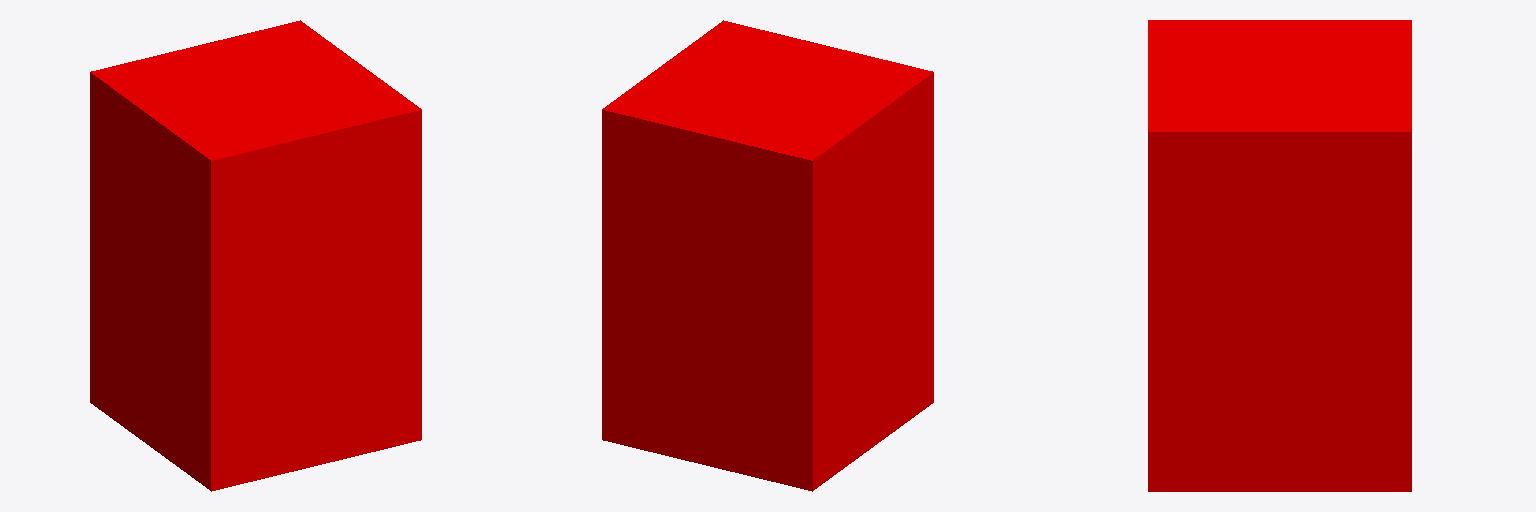
The robot description file, URDF, robot "red_cylinder":
<?xml version="1.0"?>
<robot name="red_cylinder">

<link name="base_link">
  <collision>
    <origin xyz="0.095 0.1 0.0" rpy="0 0 0"/>
    <geometry>
       <box size="0.02 0.02 0.03"/>
    </geometry>
  </collision>

  <visual>
    <origin xyz="0.095 0.1 0.0" rpy="0 0 0"/>
    <geometry>
       <box size="0.02 0.02 0.03"/>
    </geometry>
    <material name="">
        <color rgba="1 0 0 1" />
      </material>
  </visual>

  <inertial>
    <origin xyz="0.095 0.1 0.0" rpy="0 0 0"/>
    <mass value="0.0004"/>
    <inertia
      ixx="0.01" ixy="0.0" ixz="0.0"
      iyy="0.01" iyz="0.0"
      izz="0.01"/>
  </inertial>
</link>

<gazebo reference="base_link">
  <material>Gazebo/Red</material>
</gazebo>



</robot>

--- Render facts (derived) ---
The picture shows the robot from 3 angles, left to right: view 1: azimuth 30°, elevation 25°; view 2: azimuth 150°, elevation 25°; view 3: azimuth 270°, elevation 25°; orthographic projection.
Model red_cylinder with 1 links and 0 joints (none), rooted at base_link, posed every joint at zero.
Visible links, largest first — view 1: base_link; view 2: base_link; view 3: base_link.
Boxes of the visible links, left/top/right/bottom form: base_link: left=90, top=20, right=421, bottom=491; base_link: left=602, top=20, right=933, bottom=491; base_link: left=1148, top=20, right=1411, bottom=491.
Bounding box of the posed robot: 0.02 × 0.02 × 0.03 m (x, y, z).
Geometry: primitives only (box / cylinder / sphere), no mesh files.